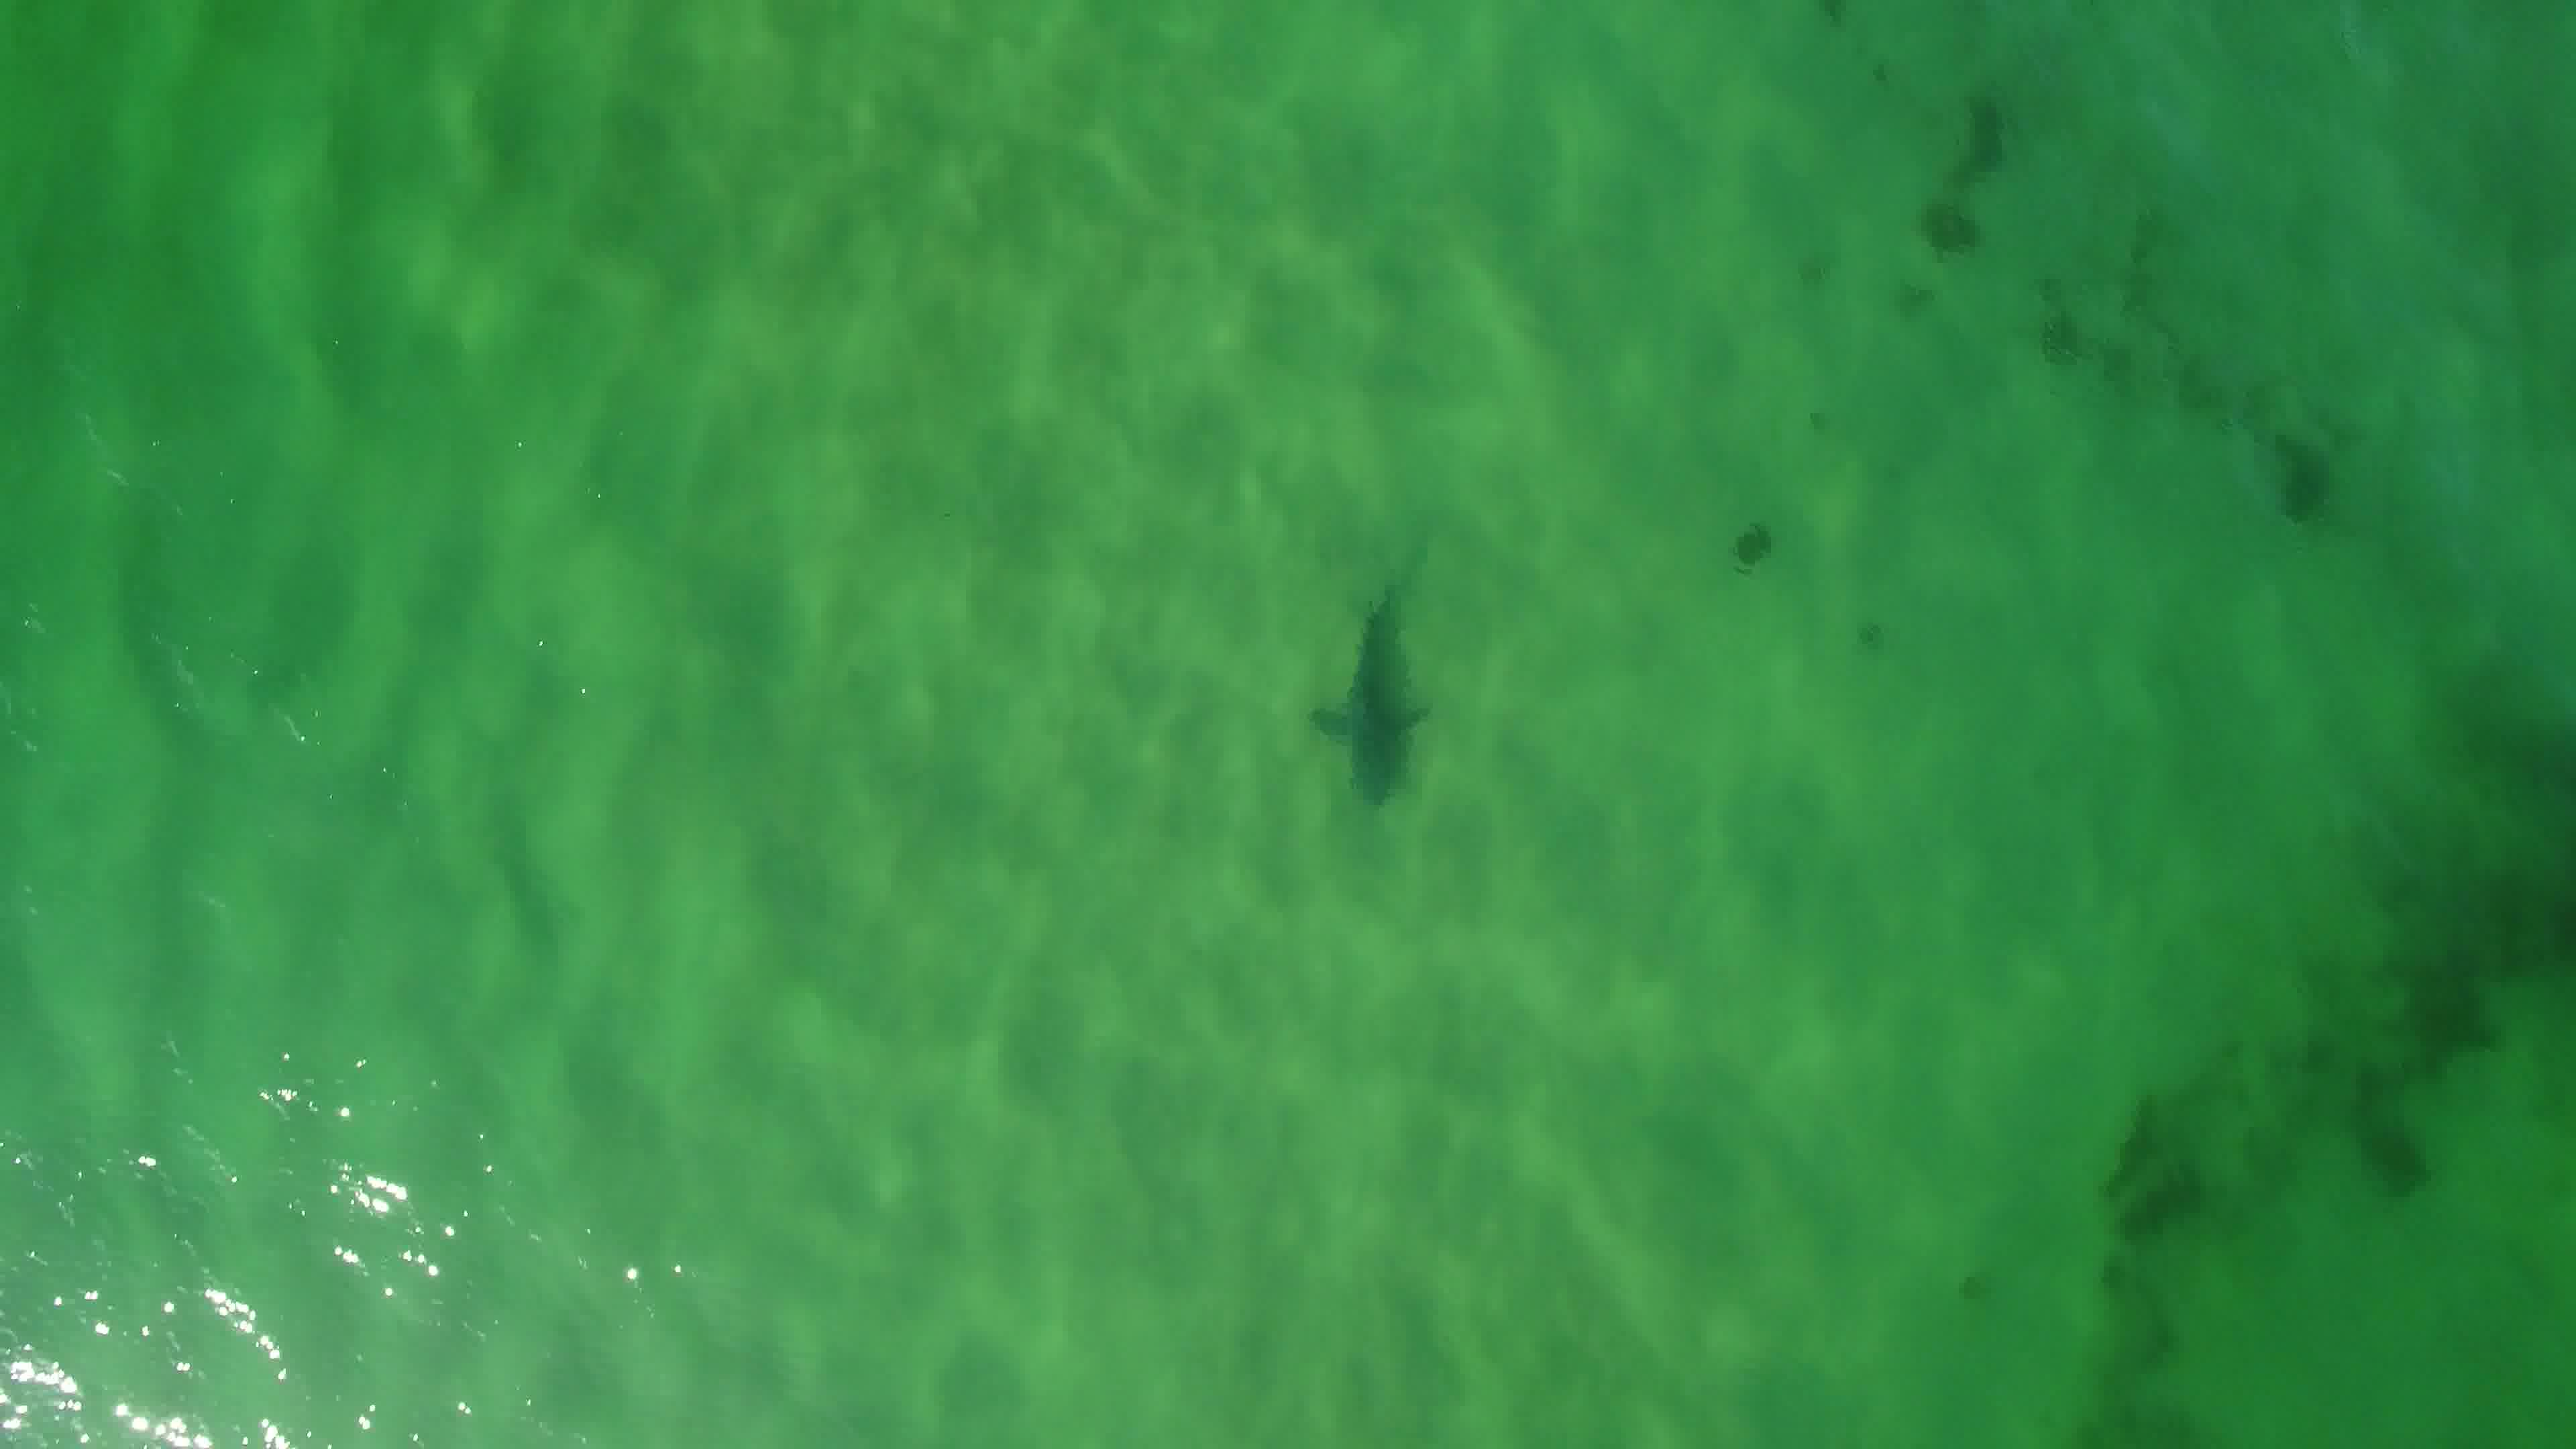shark: (1297, 570, 1440, 821)
